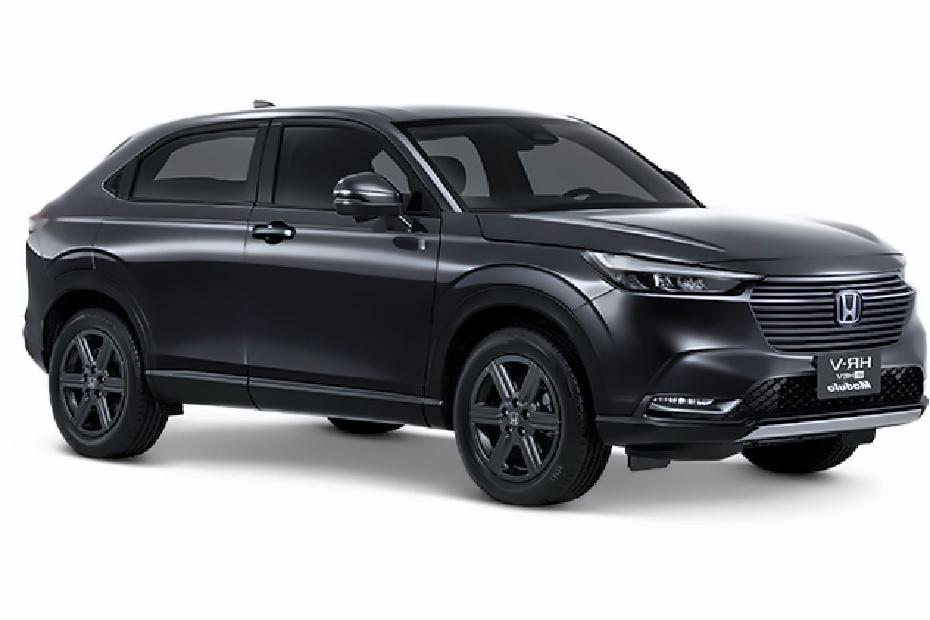Car hood: (472, 204, 913, 276)
Driver-s door - -F-R-: (235, 97, 442, 429)
Fender - -F-R-: (421, 203, 616, 372)
Fender - -R-R-: (27, 149, 124, 319)
Front bumper: (556, 278, 930, 453)
Headlight - -R-: (579, 247, 768, 302)
Passenger-s door - -R-R-: (93, 102, 264, 412)
Rear bumper: (14, 269, 51, 379)
Side bumper - -R-: (137, 344, 464, 432)
Side mirror - -R-: (333, 169, 424, 239)
